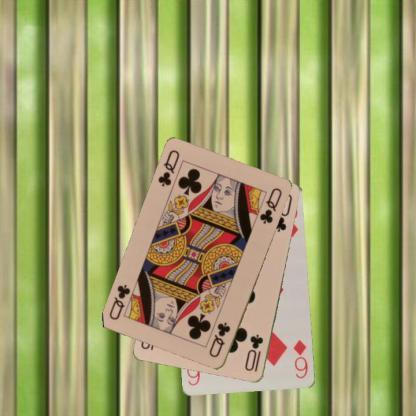10c: (242, 332, 265, 374)
6d: (290, 338, 310, 380)
Qc: (155, 148, 181, 188), (207, 320, 232, 360)
